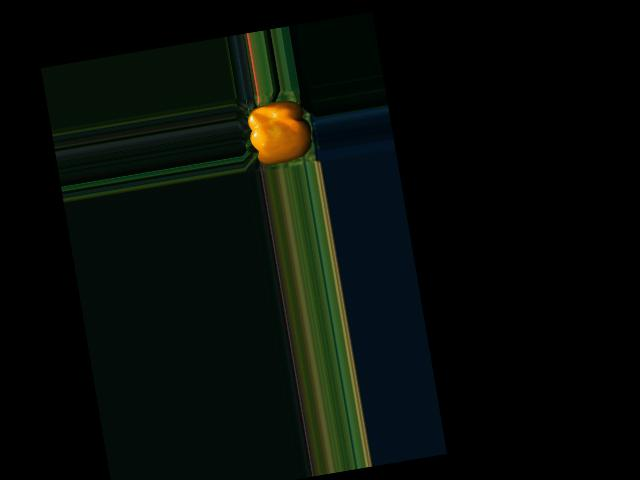bell_pepper: (238, 91, 316, 172)
